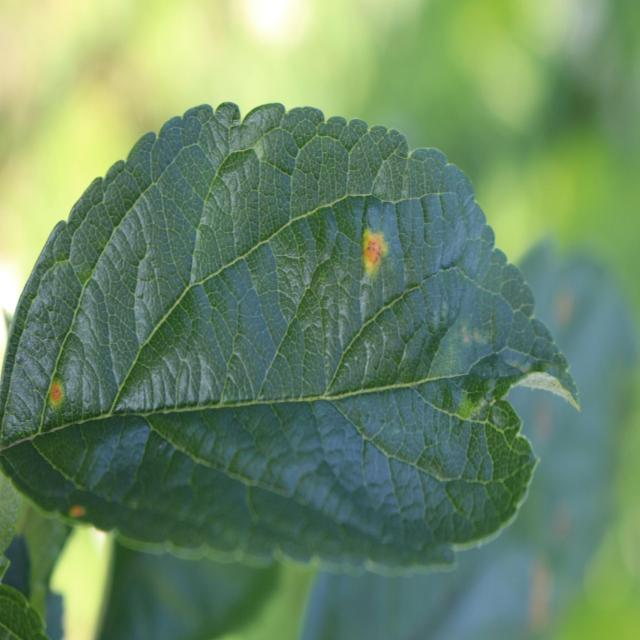Rust: (361, 222, 393, 283), (44, 376, 69, 416), (64, 501, 91, 532)
